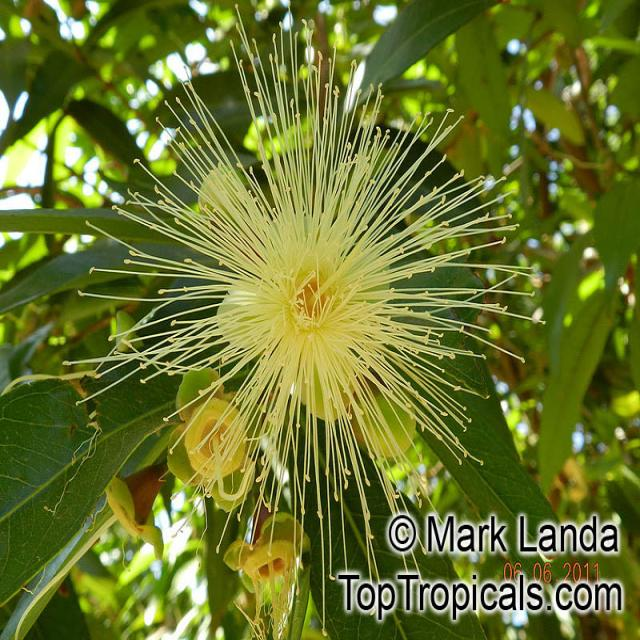Medicinal-Rose Apple: (2, 0, 640, 510)
